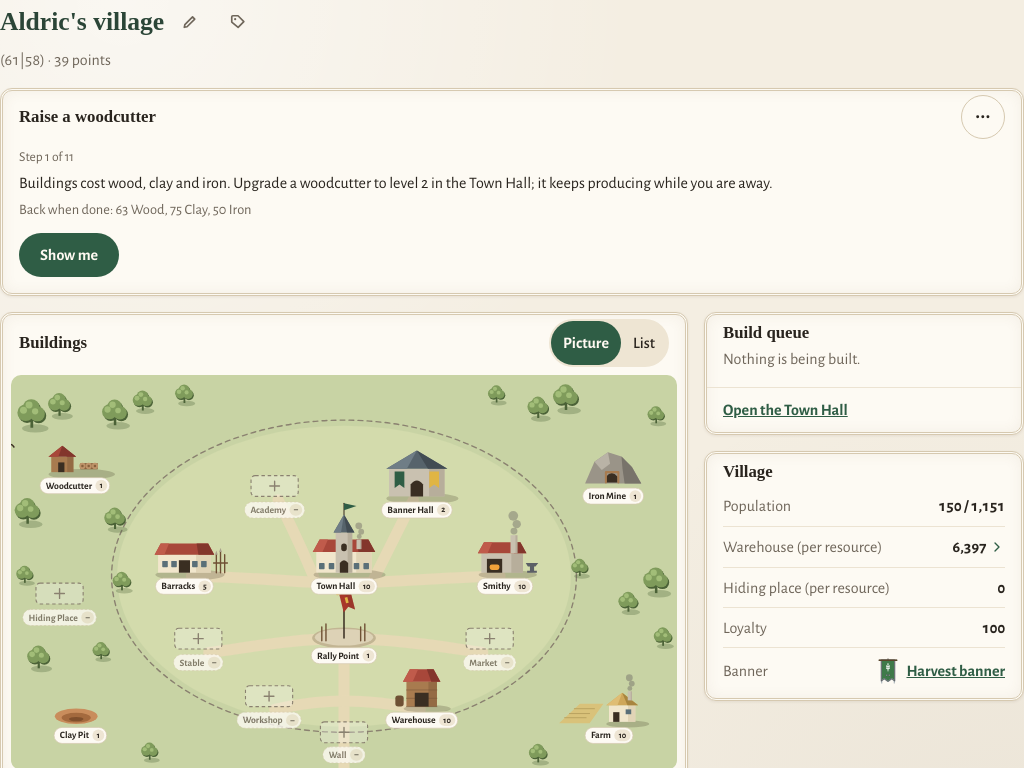
it: the tutorial card on the village page › marks only the step the card shows as "Next", other open steps say "Open"
Click the button named "More for the tutorial" at (983, 117), box x1=961 y1=95 x2=1005 y2=139
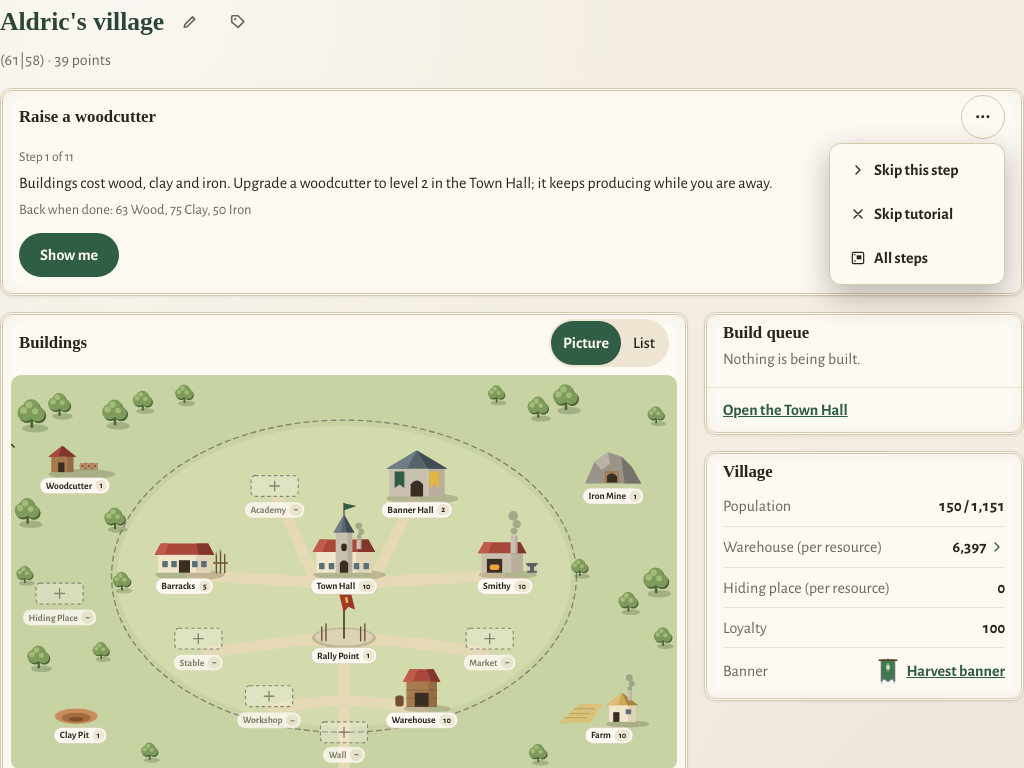
Click the button "All steps" at (917, 258), box x1=834 y1=236 x2=1000 y2=280
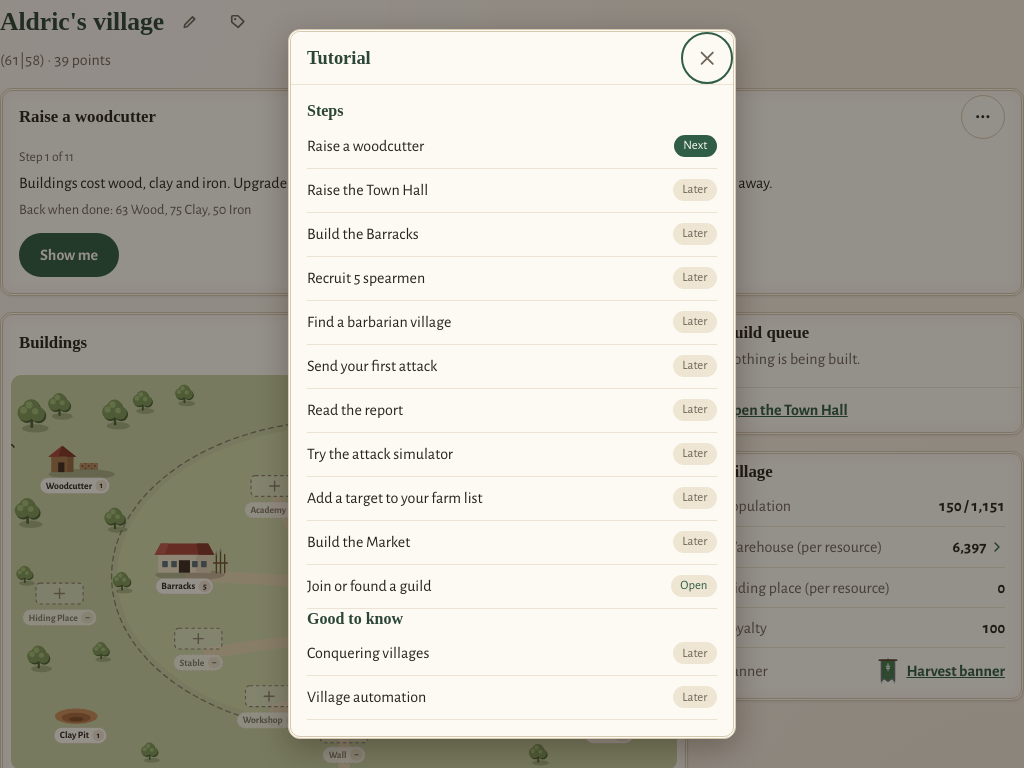
Expected: the text "Next" is shown once, x1=674 y1=135 x2=717 y2=157
Expected: the list item "Raise a woodcutter Next" is shown, x1=307 y1=124 x2=717 y2=168
Expected: the list item "Join or found a guild Open" is shown, x1=307 y1=564 x2=717 y2=608
